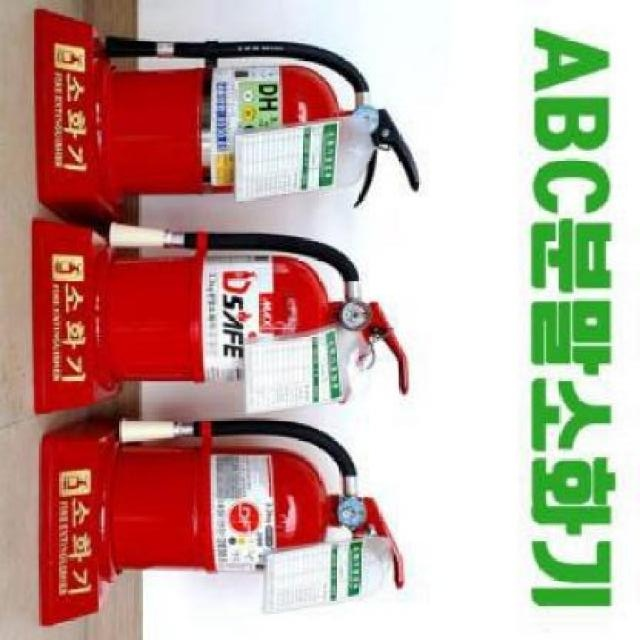fire extinguisher: (104, 34, 421, 209), (108, 221, 409, 405), (114, 417, 406, 591)
